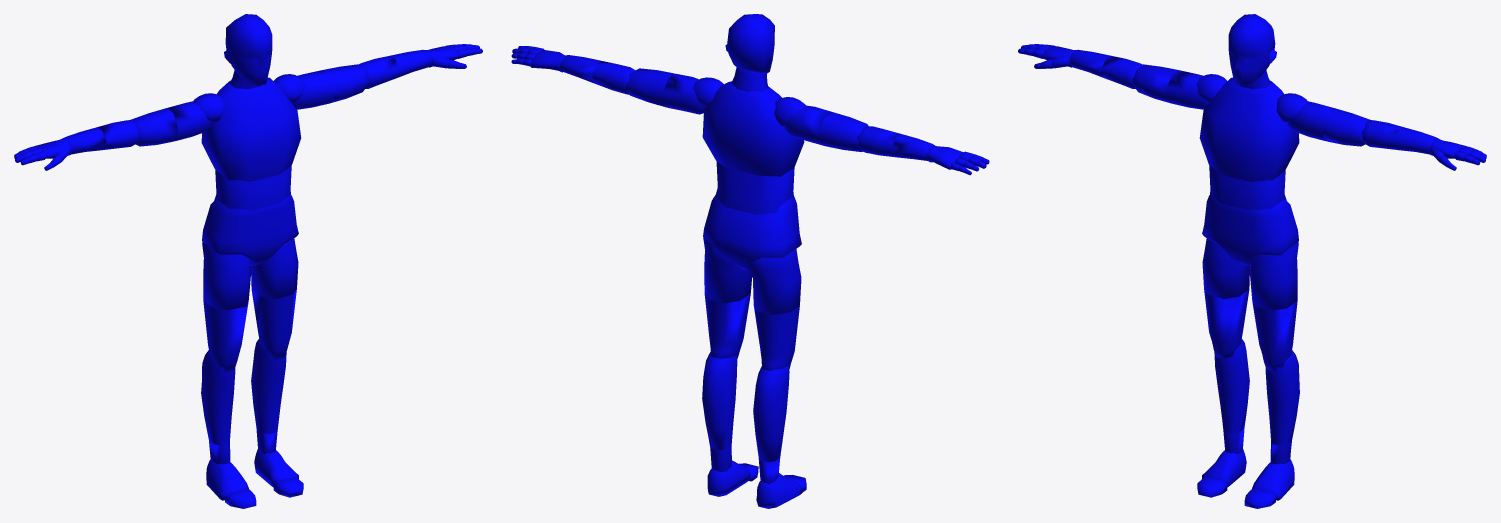
Rendered from blueguy_hanim.dae.
The picture shows the model from 3 angles, left to right: view 1: azimuth 30°, elevation 25°; view 2: azimuth 150°, elevation 25°; view 3: azimuth 330°, elevation 25°; orthographic projection.
Parts seen in each view (by area): view 1: vl3, HumanoidRoot, skullbase, r_hip, r_knee, l_knee, vt10, r_thigh_roll, l_thigh_roll, l_hip, r_upperarm_roll, l_shoulder (+10 smaller); view 2: vl3, HumanoidRoot, vt10, r_knee, l_knee, r_hip, skullbase, l_thigh_roll, r_thigh_roll, l_hip, r_upperarm_roll, l_upperarm_roll (+13 smaller); view 3: vl3, HumanoidRoot, skullbase, l_hip, l_knee, r_knee, vt10, l_thigh_roll, r_thigh_roll, r_hip, l_upperarm_roll, r_shoulder (+10 smaller).
Boxes of the visible parts, x1,y1,x2,y2 form: vl3: (201,77,301,181); HumanoidRoot: (202,194,298,265); skullbase: (224,14,272,85); r_hip: (202,242,250,310); r_knee: (201,350,235,445); l_knee: (251,339,286,434); vt10: (214,165,291,210); r_thigh_roll: (203,301,248,371); l_thigh_roll: (251,288,296,359); l_hip: (251,238,298,299); r_upperarm_roll: (130,108,177,146); l_shoulder: (292,70,334,109); vl3: (702,81,804,176); HumanoidRoot: (703,195,801,270); vt10: (715,161,794,214); r_knee: (753,365,789,462); l_knee: (702,352,737,450); r_hip: (746,249,801,314); skullbase: (725,14,774,73); l_thigh_roll: (704,293,750,358); r_thigh_roll: (753,305,799,371); l_hip: (703,237,752,303); r_upperarm_roll: (819,112,868,151); l_upperarm_roll: (626,68,673,107); vl3: (1199,77,1299,181); HumanoidRoot: (1202,194,1298,265); skullbase: (1228,14,1276,85); l_hip: (1250,242,1298,310); l_knee: (1265,350,1299,445); r_knee: (1214,339,1249,434); vt10: (1209,165,1286,210); l_thigh_roll: (1252,301,1297,371); r_thigh_roll: (1204,288,1249,359); r_hip: (1202,238,1249,299); l_upperarm_roll: (1323,108,1370,146); r_shoulder: (1166,70,1208,109).
Bounding box in the file's own units: 1.84 × 1.77 × 0.2714.
